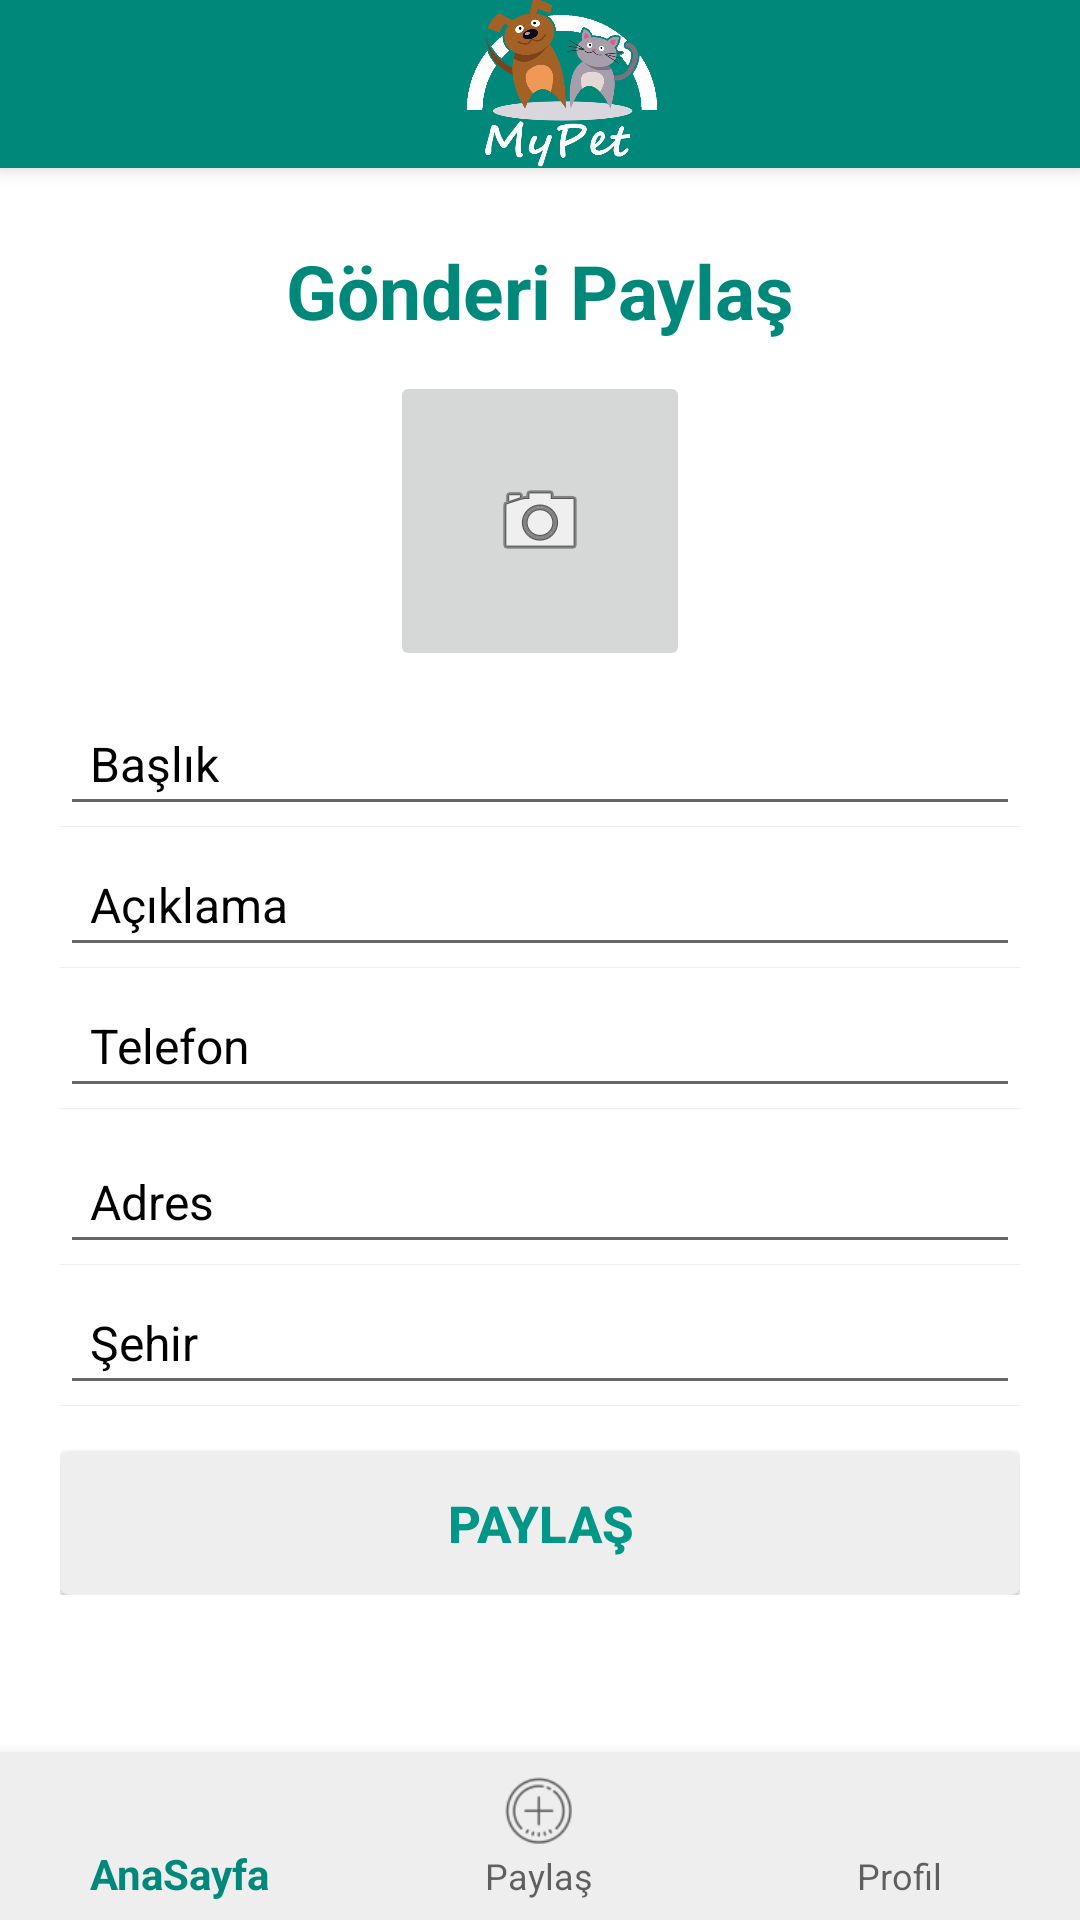

Locate icon controls on the screen. Image size 1080px×1920px, boxes as (x1, y1, x2, y2).
camera: (402, 389, 678, 653)
